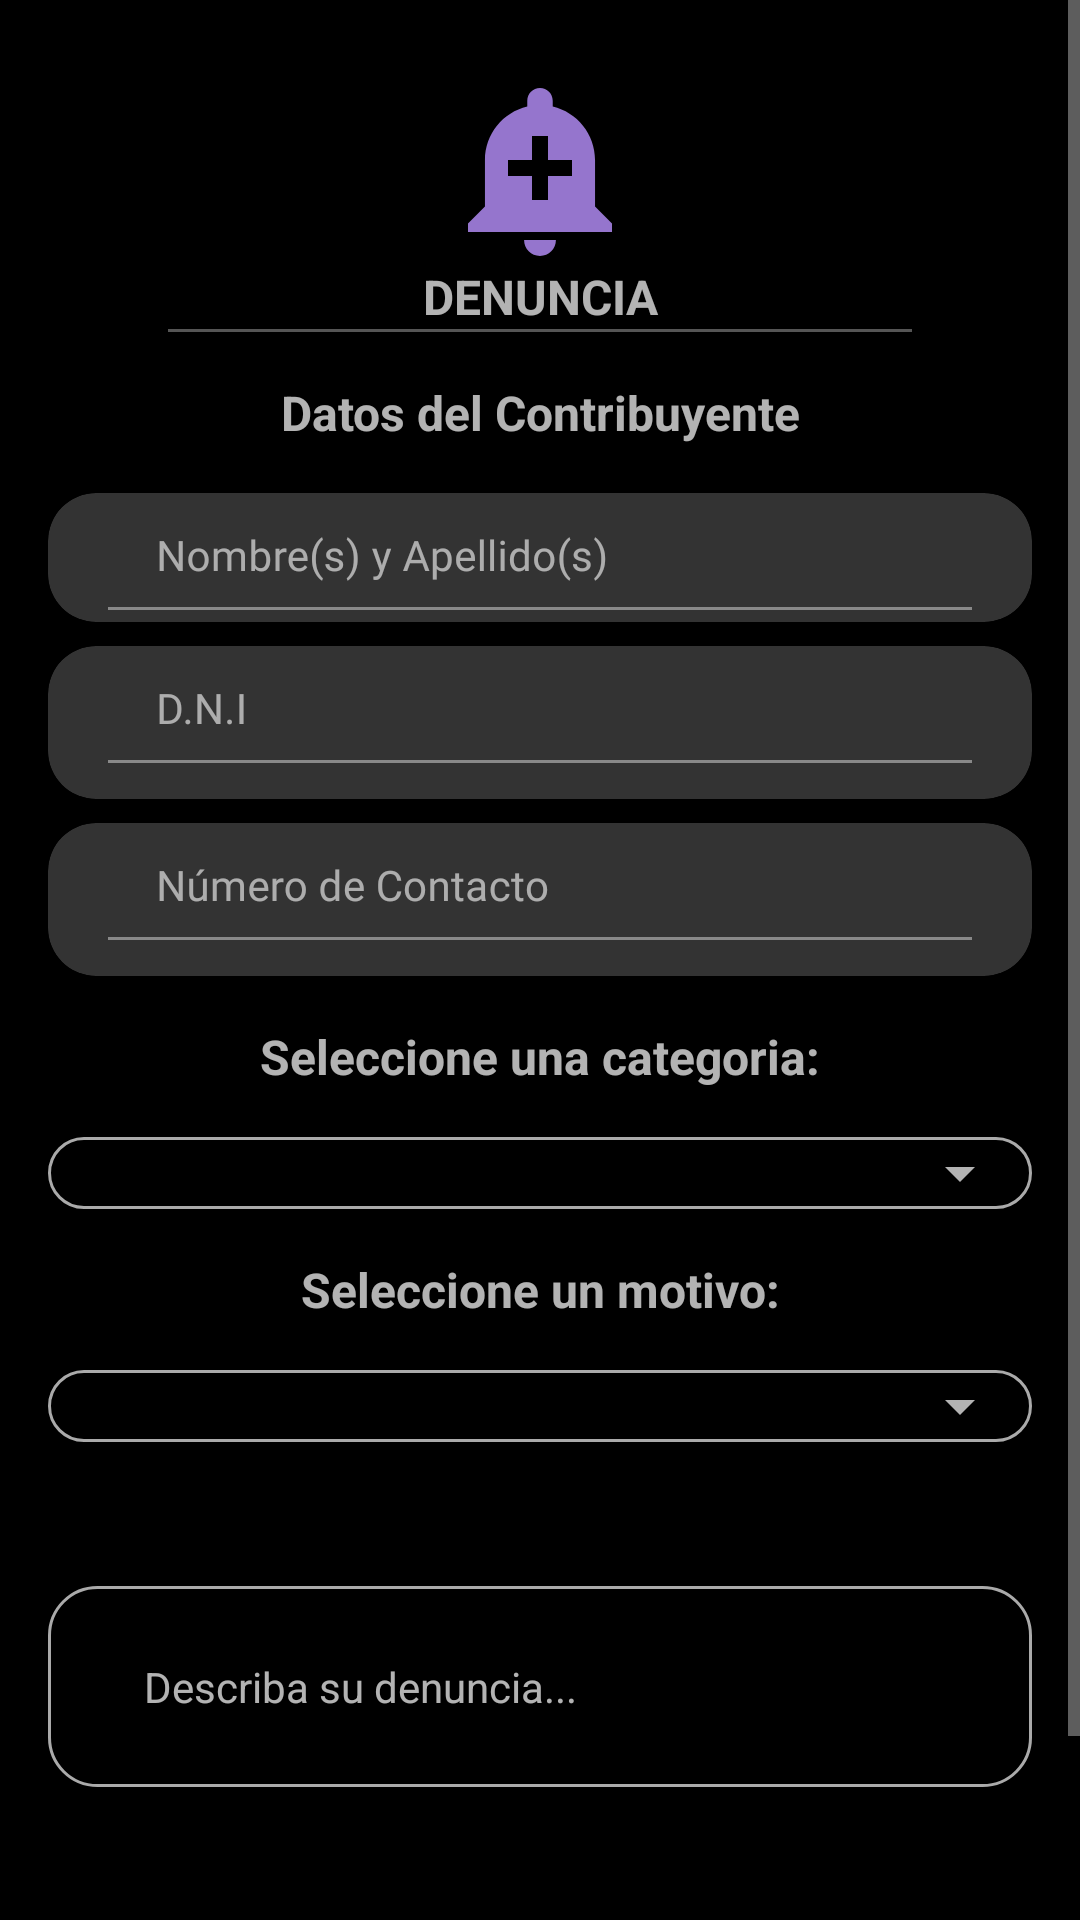

Icon click points for this 1080px x 1920px phone screenshot, format point (x, y):
add alert: point (540, 172)
